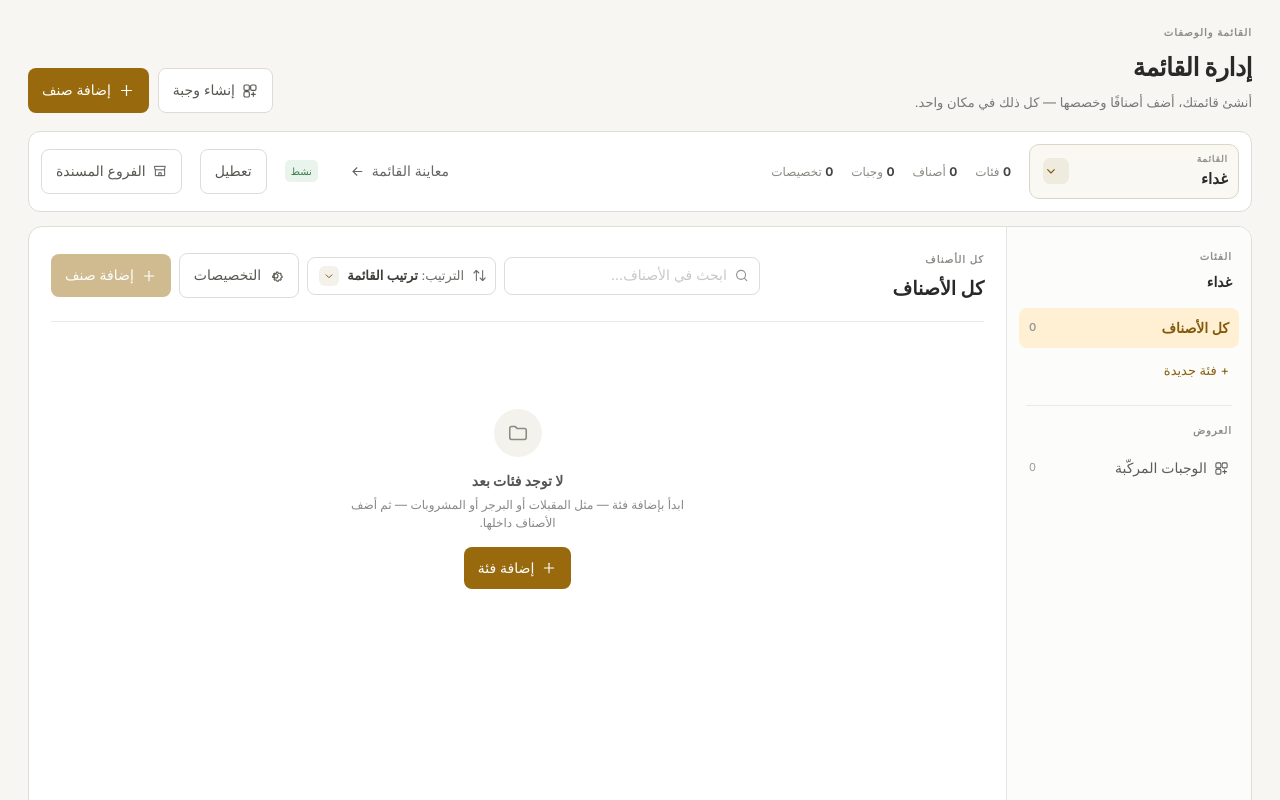
Phase 3 — localization › the New Modifier Group form renders Arabic labels, and the numeric selection fields stay LTR under an RTL locale
Click the button "التخصيصات" at (239, 276), box [179,253,299,298]
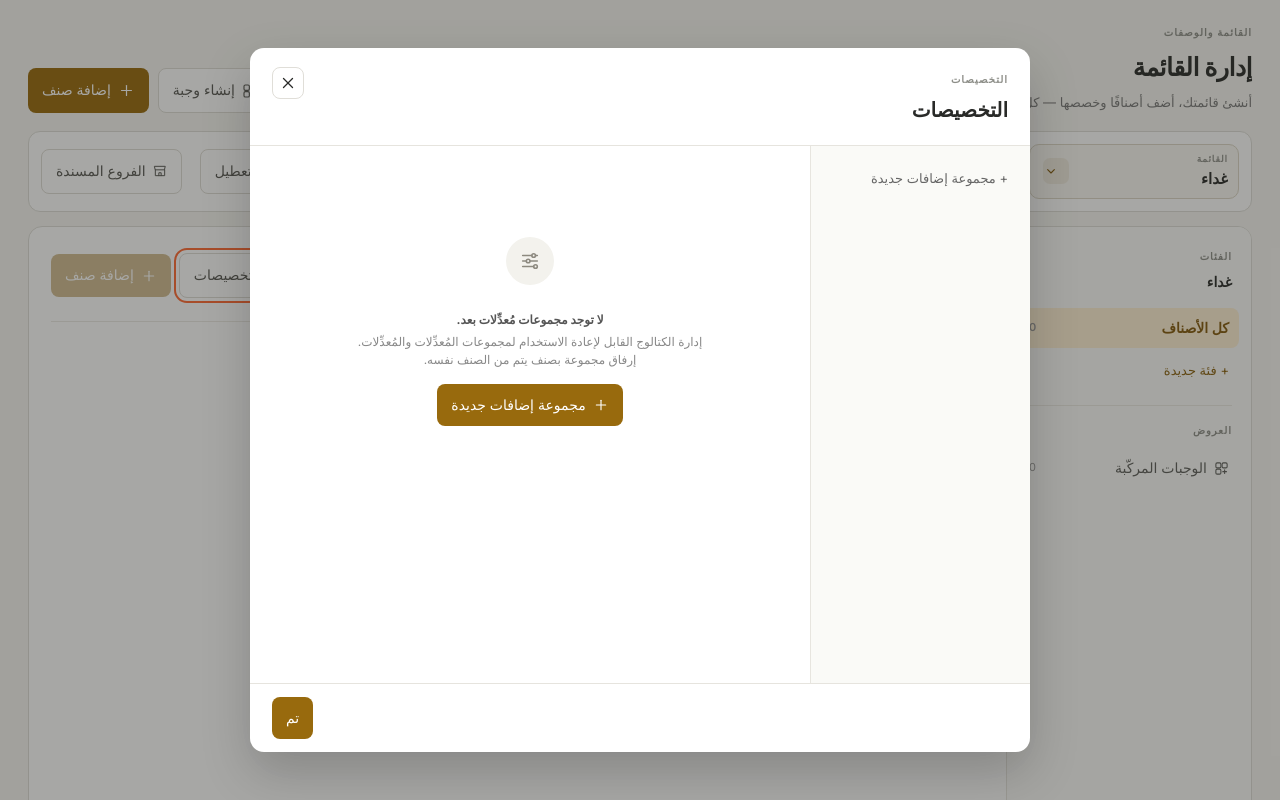
Click the button "مجموعة إضافات جديدة" at (530, 405), box [437,384,623,426]
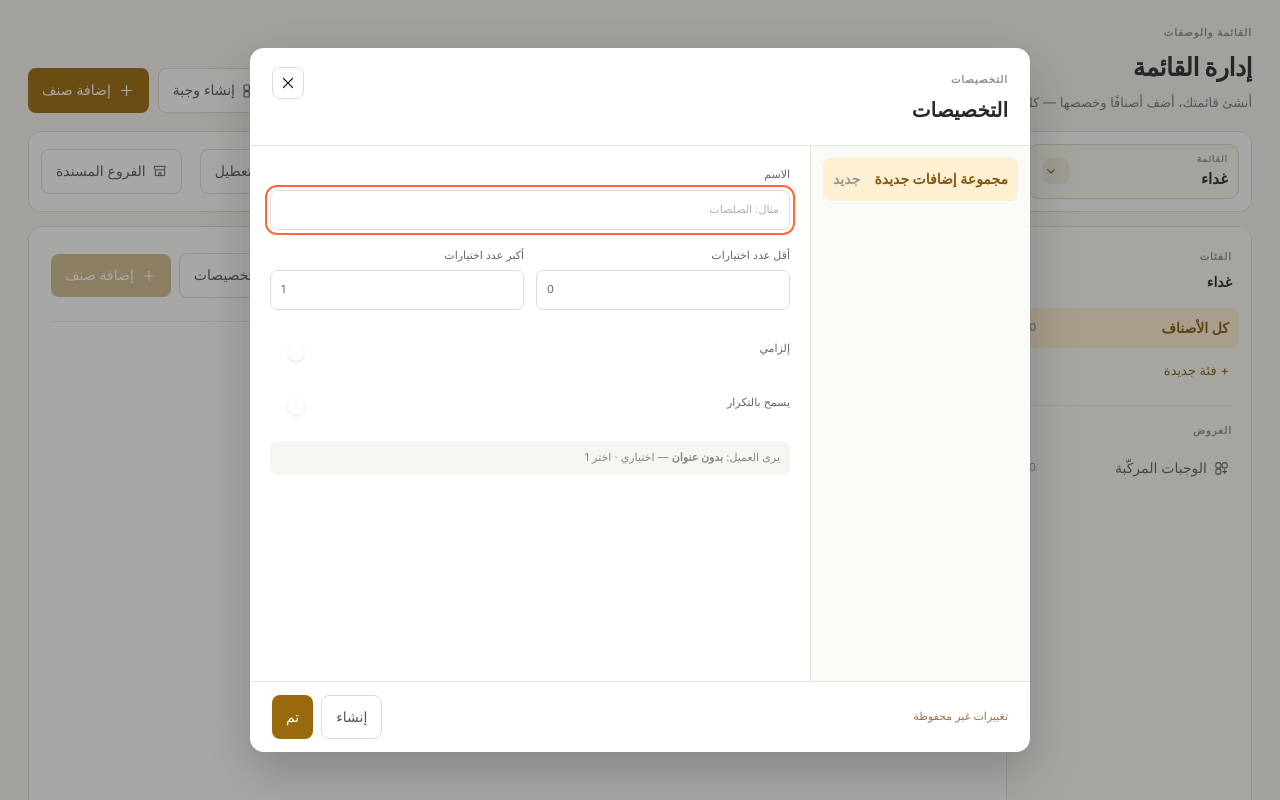
Now the text "أقل عدد اختيارات" is shown, box [536,247,790,310]
Now the text "أكبر عدد اختيارات" is shown, box [270,247,524,310]
Now the field labelled "أقل عدد اختيارات" is shown, box [536,270,790,310]
